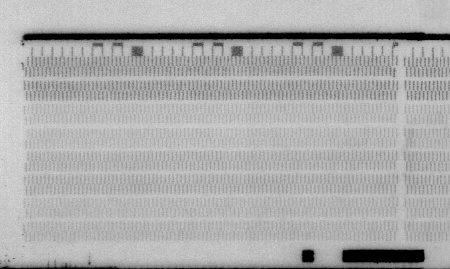Oblique printing: (17, 57, 29, 72), (388, 66, 399, 80)
